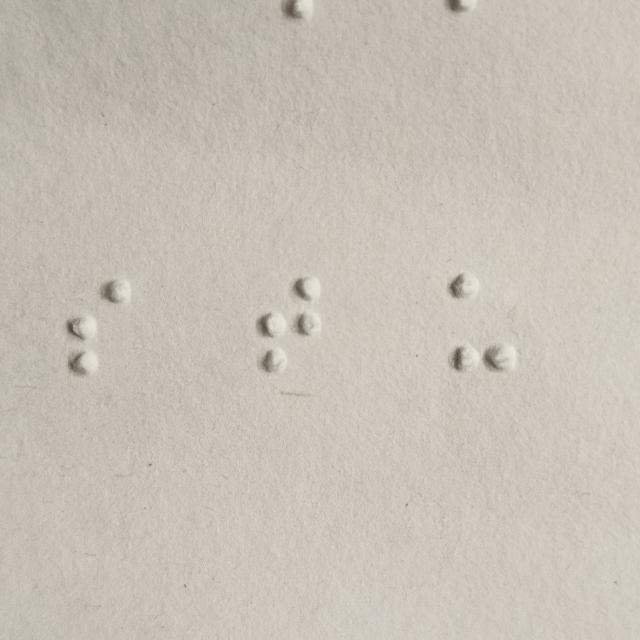one_cell_alphabet_sang-ayon: (66, 275, 132, 377)
one_cell_alphabet_tayo: (255, 273, 321, 374)
one_cell_alphabet_upang: (450, 271, 516, 372)
